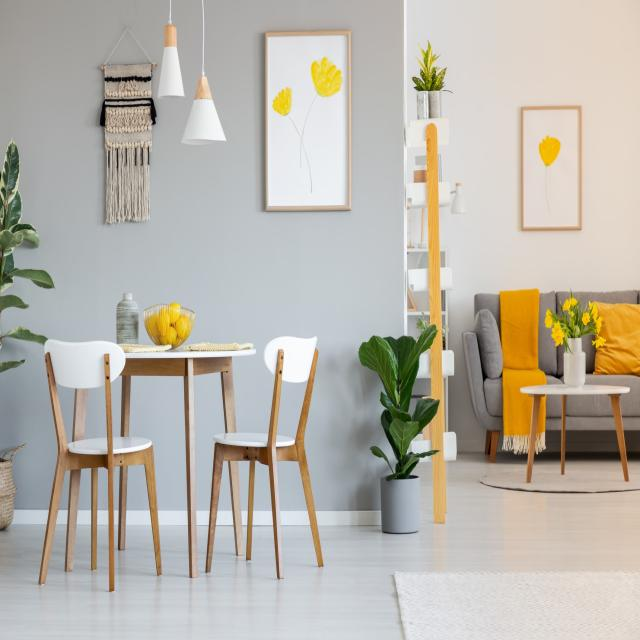modern chair: (32, 339, 168, 590), (206, 327, 326, 577)
modern desk: (90, 325, 258, 569), (519, 377, 637, 488)
modern sofa: (466, 275, 640, 465)
